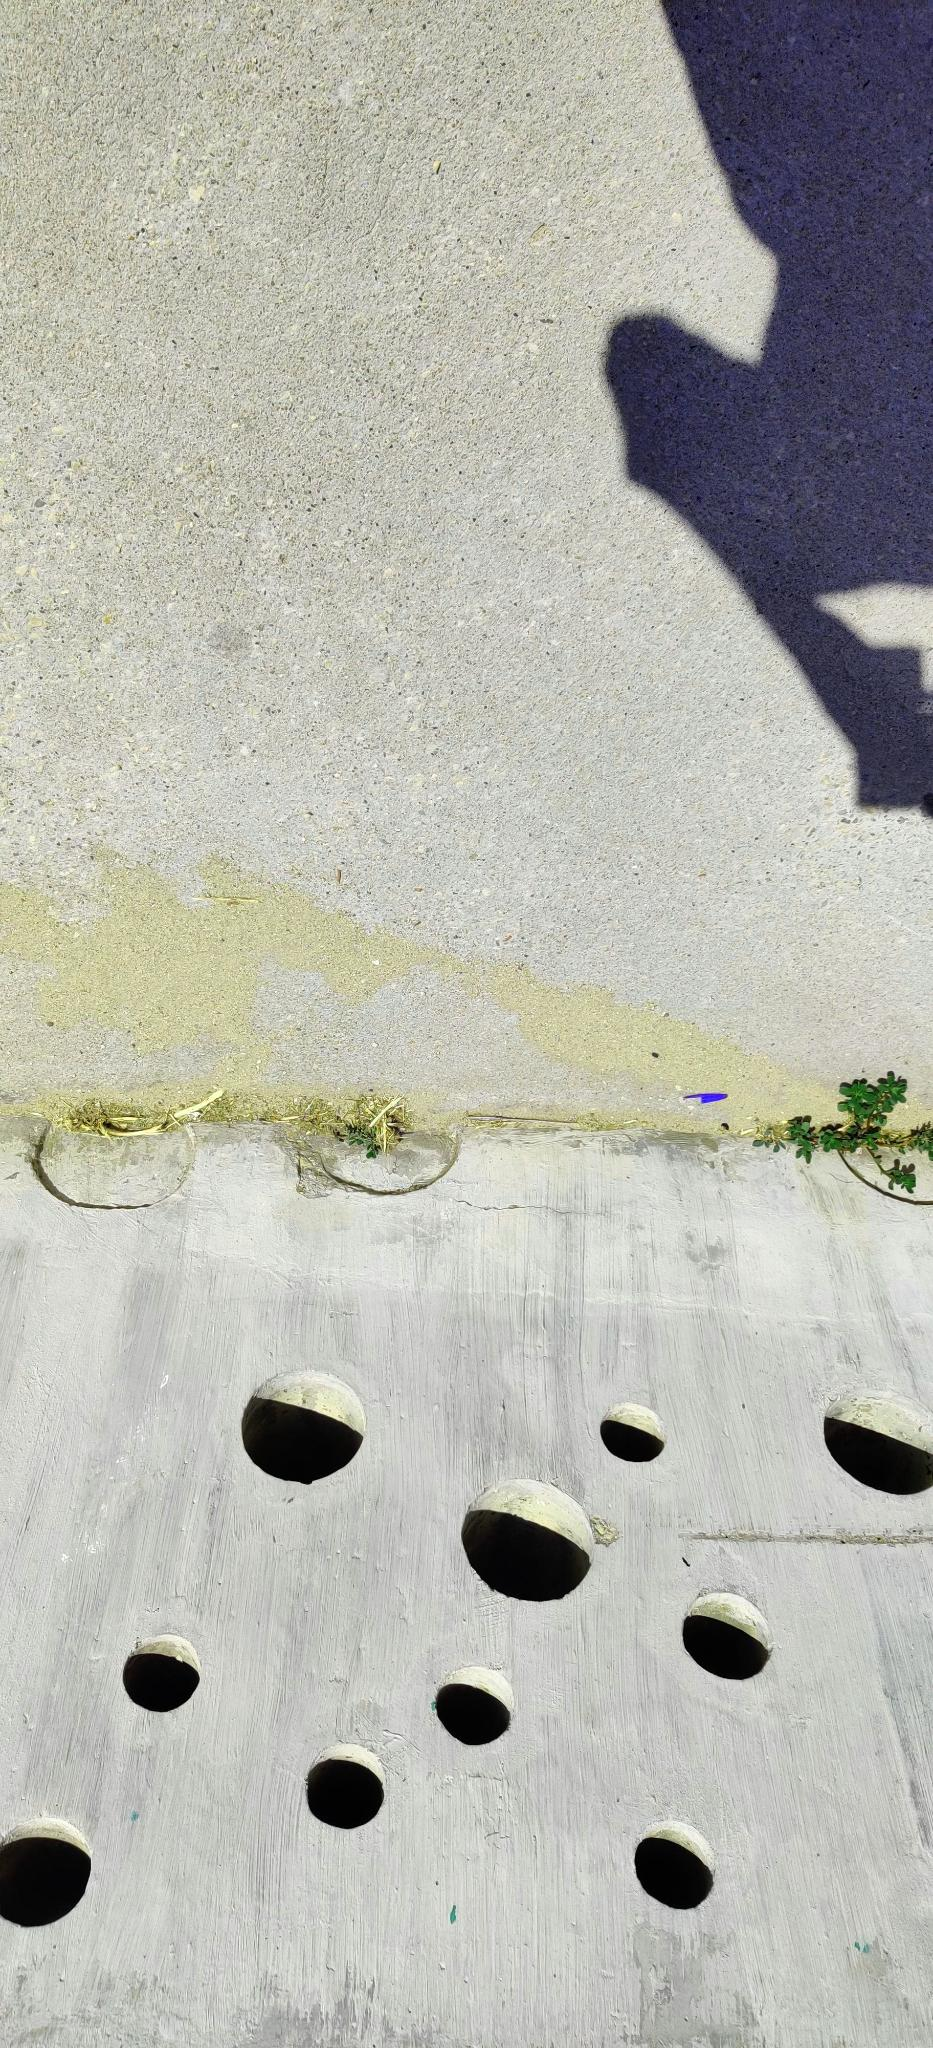Plastic: (677, 1084, 729, 1109)
